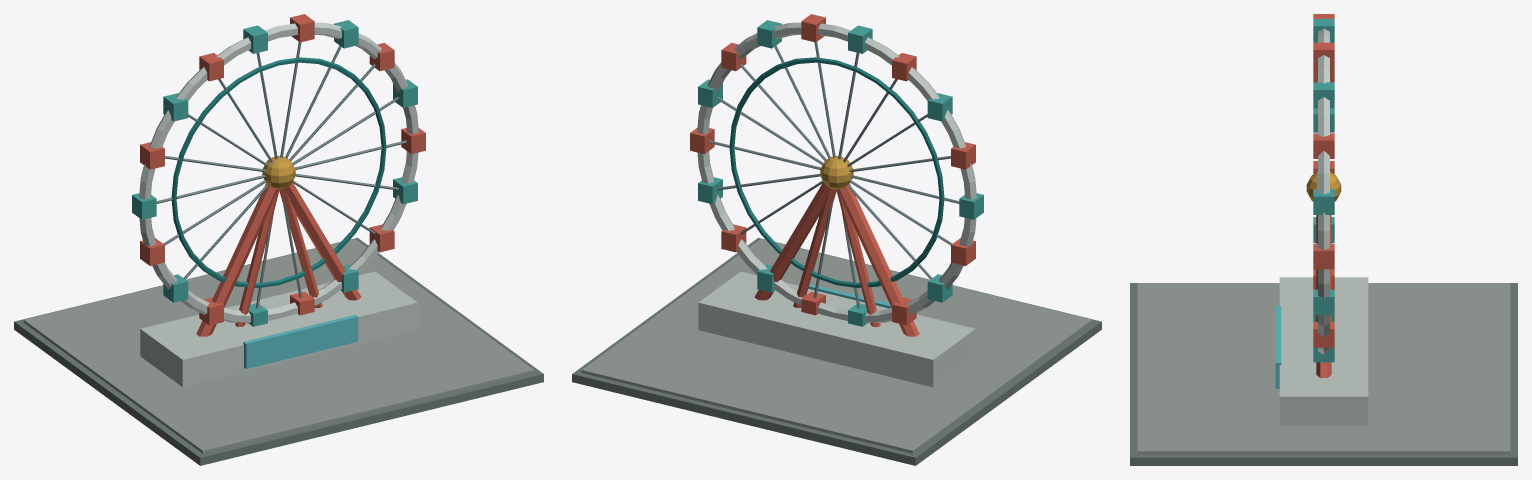
File: ferris_wheel_lv3.glb
3 renders of one model, left to right at view 1: azimuth 30°, elevation 25°; view 2: azimuth 150°, elevation 25°; view 3: azimuth 270°, elevation 25°, orthographic. The views are drawn at different scales.
Visible parts, largest first — view 1: rough, metallic, glossy; view 2: rough, metallic; view 3: rough, glossy.
Part boxes in pixels (x1,y1,x2,y2): rough: [14, 14, 543, 465]; metallic: [156, 42, 406, 308]; glossy: [243, 314, 358, 368]; rough: [572, 14, 1101, 465]; metallic: [709, 42, 959, 308]; rough: [1130, 14, 1517, 465]; glossy: [1275, 306, 1281, 388].
Bounding box in the file's own units: 9.8 × 9.01 × 9.2.
